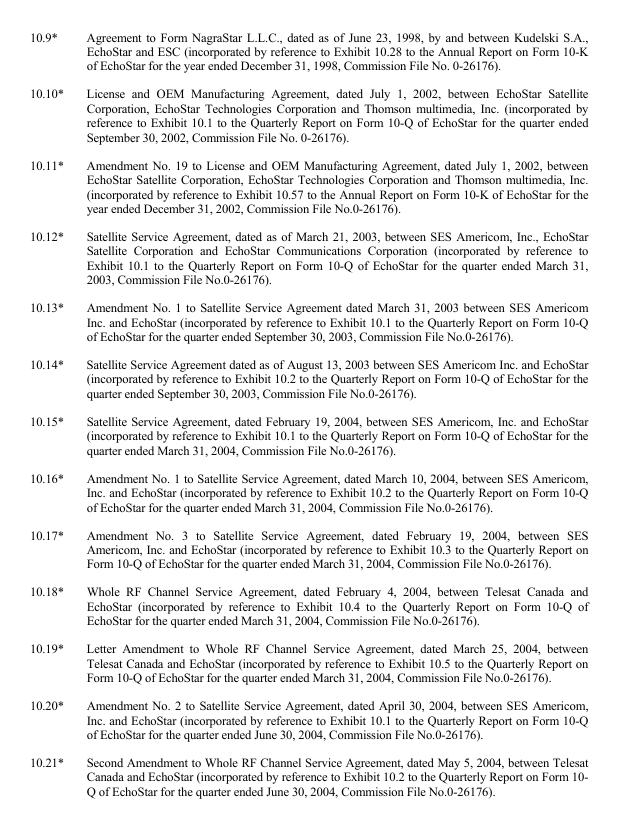table: (28, 29, 587, 797)
table column: (74, 29, 587, 797), (28, 29, 74, 797)
table row: (28, 79, 587, 150), (28, 150, 587, 221), (28, 221, 587, 292), (28, 292, 587, 349), (28, 349, 587, 406), (28, 406, 587, 463), (28, 463, 587, 520), (28, 520, 587, 577), (28, 577, 587, 634), (28, 690, 587, 747), (28, 634, 587, 690), (28, 29, 587, 79), (28, 747, 587, 797)
